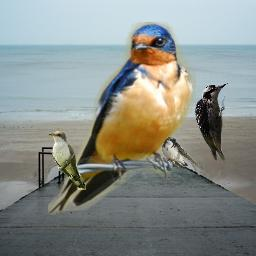Cuckoo: (48, 130, 86, 190)
Swallow: (48, 22, 196, 215), (161, 136, 201, 169)
Woodpecker: (192, 79, 230, 164)
